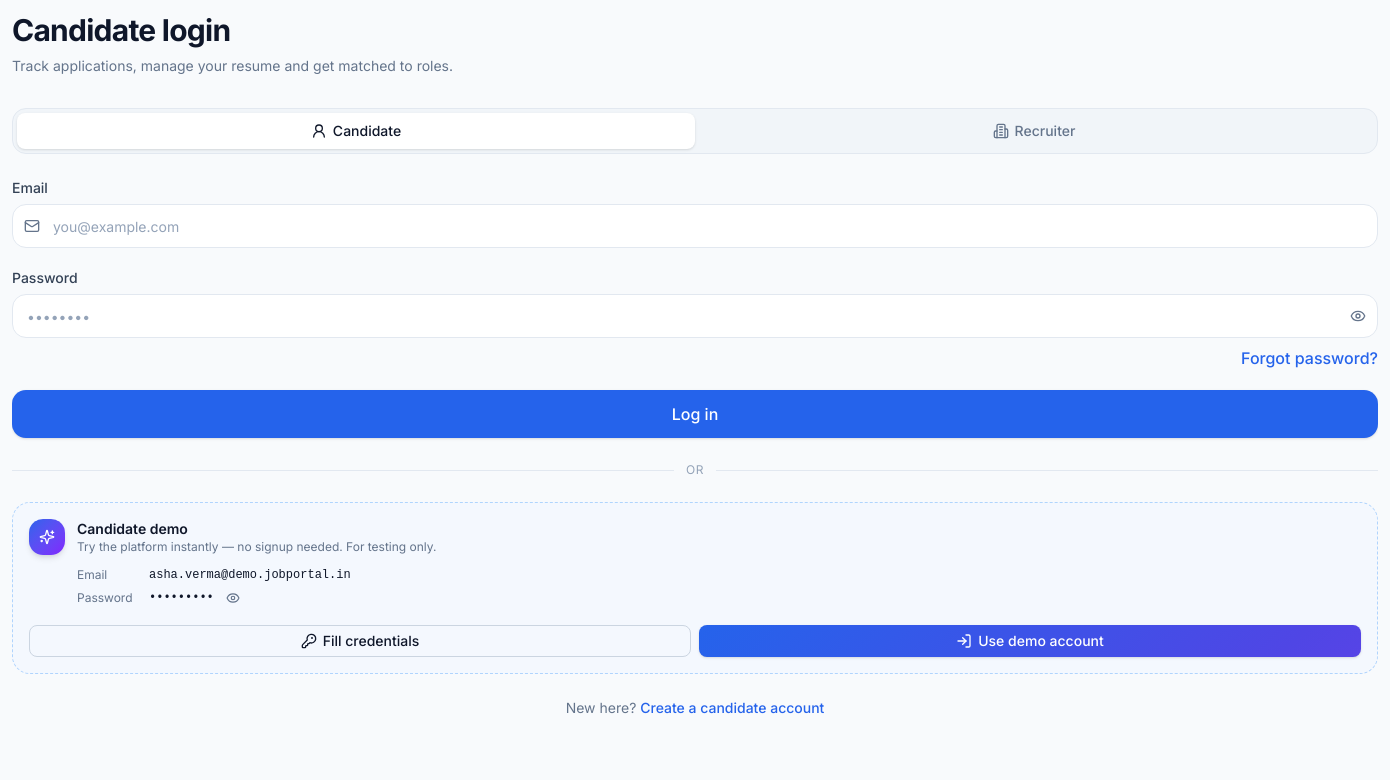
Test case: login pages with demo accounts › candidate login page shows the candidate demo and "Fill credentials" populates the form
This screenshot has width=1390, height=780.
expect the heading "Candidate login" is shown: met, box [12,12,230,48]
expect the text "asha.verma@demo.jobportal.in" is shown: met, box [149,567,351,583]
Click the button "Fill credentials" at (360, 641), box [29,625,691,657]
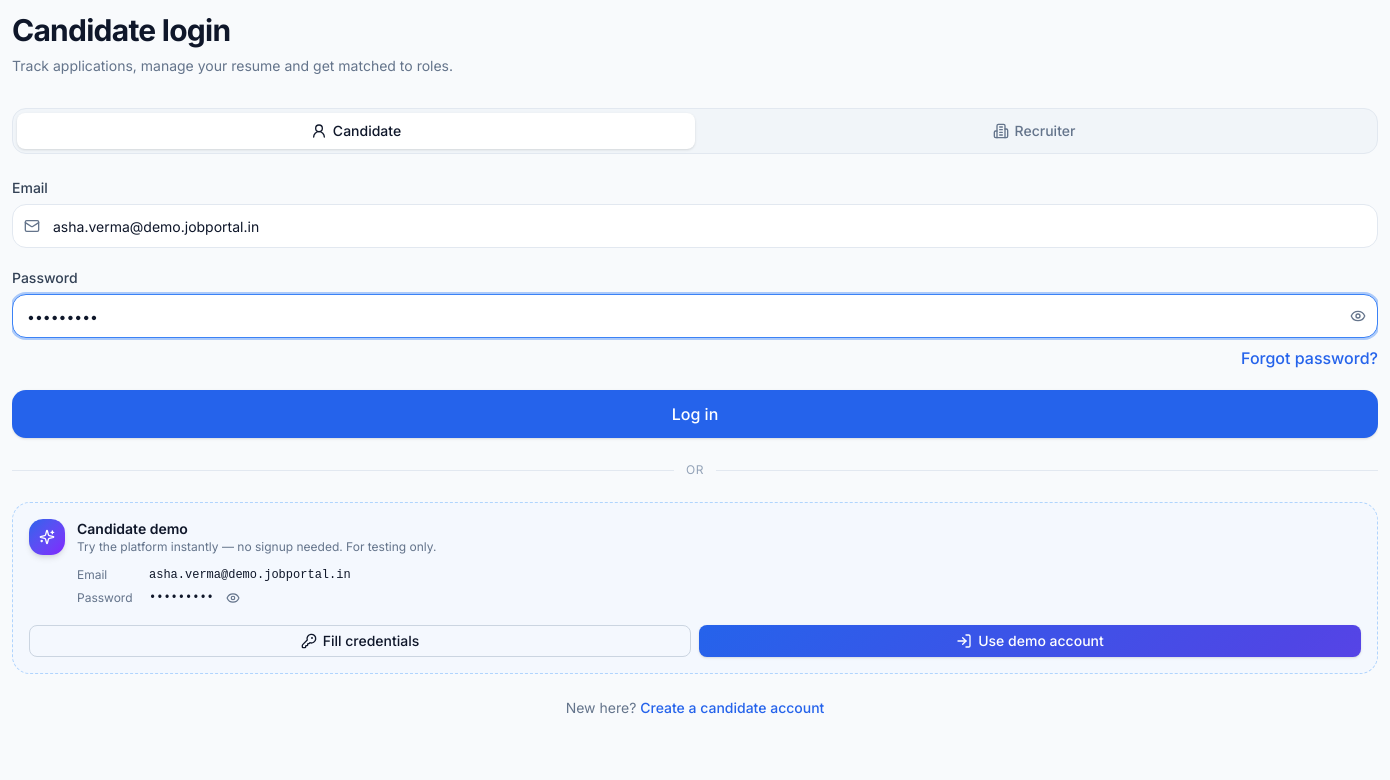
expect the field labelled "Email" holds "asha.verma@demo.jobportal.in": met, box [12,204,1378,248]
expect the password field labelled "Password" holds "Demo@1234": met, box [12,294,1378,338]
